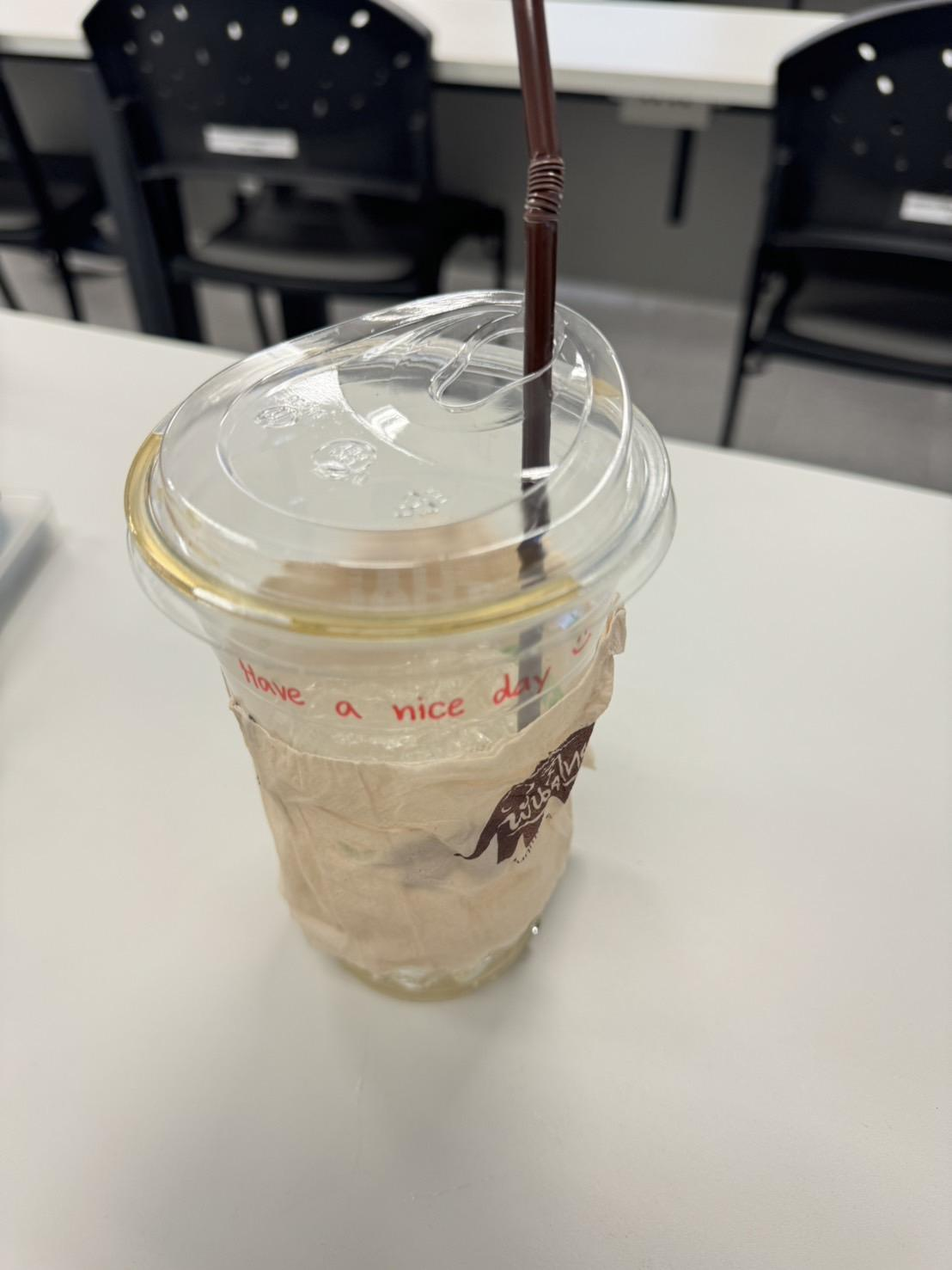cup: (125, 291, 673, 997)
